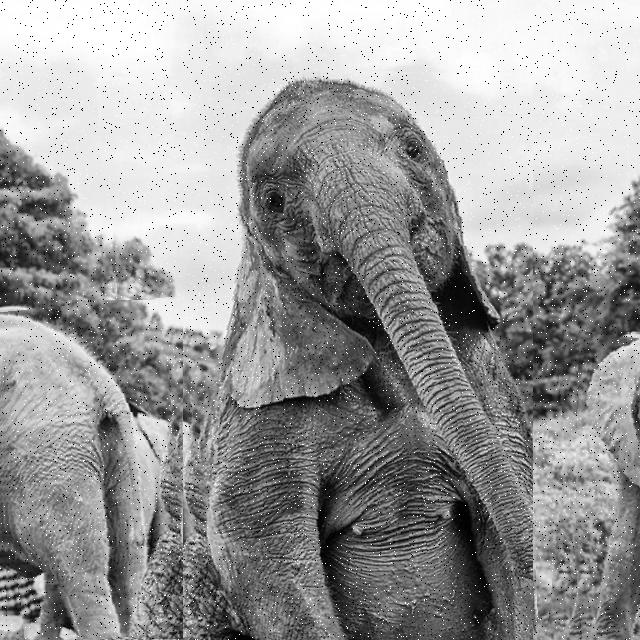elephant: (102, 65, 533, 640), (0, 300, 183, 640), (555, 332, 640, 640)
